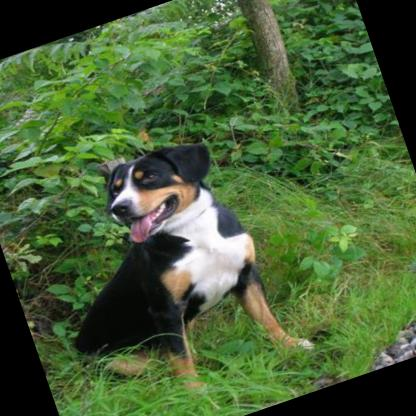EntleBucher: (23, 120, 314, 416)
